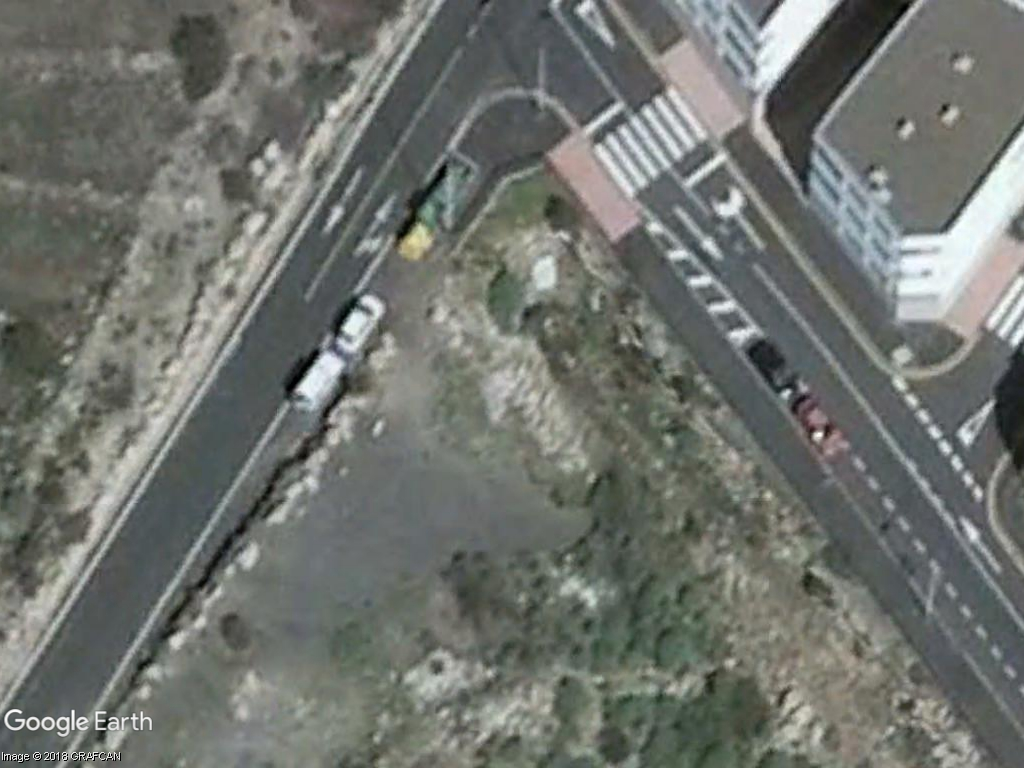car: (734, 332, 806, 402), (324, 289, 397, 355)
truck: (281, 343, 351, 420)
